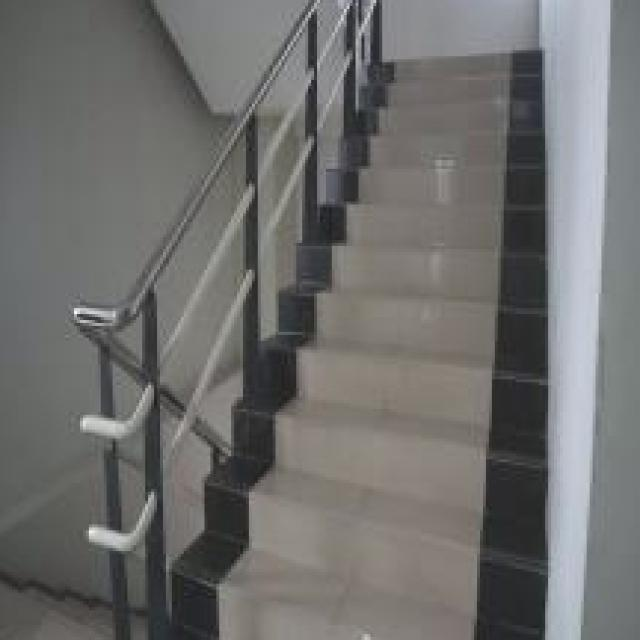upstair: (377, 33, 552, 640)
